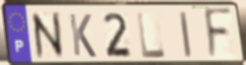2: (104, 11, 134, 60)
F: (203, 6, 234, 63)
I: (178, 10, 193, 60)
K: (67, 12, 98, 59)
L: (135, 10, 168, 60)
N: (29, 10, 67, 62)
